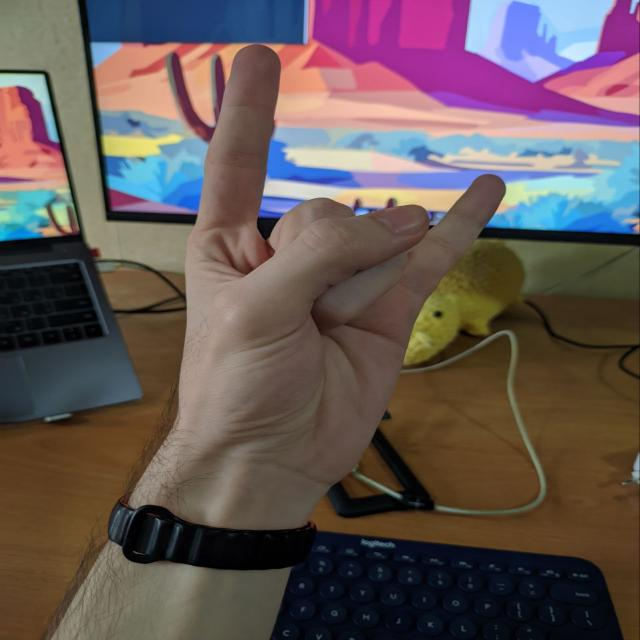y: (171, 24, 501, 498)
